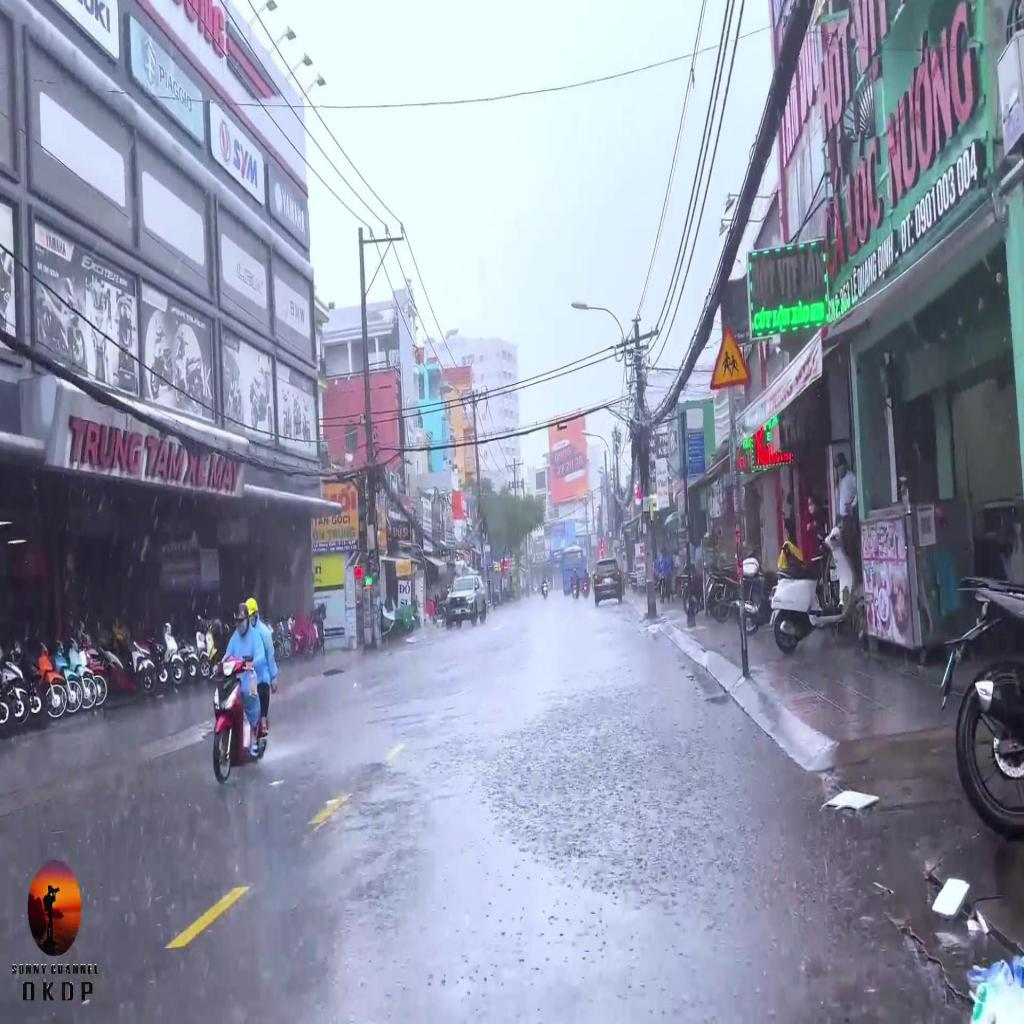chu_y_tre_em: (708, 320, 751, 390)
